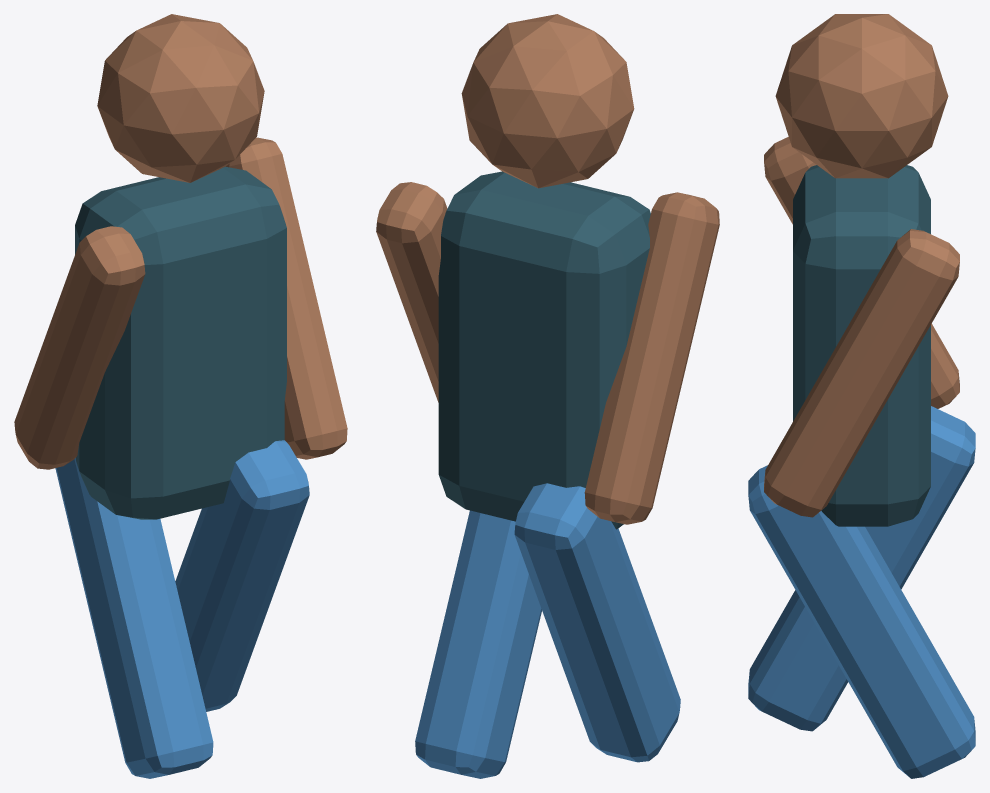
Rendered from pedestrian.glb.
3 views of the same model, side by side, from view 1: azimuth 30°, elevation 25°; view 2: azimuth 150°, elevation 25°; view 3: azimuth 270°, elevation 25° (orthographic). The views are drawn at different scales.
Visible parts, largest first — view 1: Torso, Leg_Left, Head, Leg_Right, Arm_Left, Arm_Right; view 2: Torso, Leg_Left, Head, Arm_Left, Leg_Right, Arm_Right; view 3: Torso, Leg_Right, Head, Arm_Right, Leg_Left, Arm_Left.
Boxes of the visible parts, x1,y1,x2,y2 form: Torso: (75,166,286,519); Leg_Left: (55,458,213,778); Head: (97,14,264,182); Leg_Right: (175,440,309,711); Arm_Left: (14,226,145,469); Arm_Right: (226,137,347,459); Torso: (438,171,650,529); Leg_Left: (514,483,680,762); Head: (461,14,634,188); Arm_Left: (584,192,719,524); Leg_Right: (415,510,541,778); Arm_Right: (376,182,447,402); Torso: (793,165,930,526); Leg_Right: (748,465,975,778); Head: (775,14,948,178); Arm_Right: (764,229,959,517); Leg_Left: (748,406,975,731); Arm_Left: (764,137,959,408).
Bounding box in the file's own units: 0.686 × 1.86 × 0.5258.
